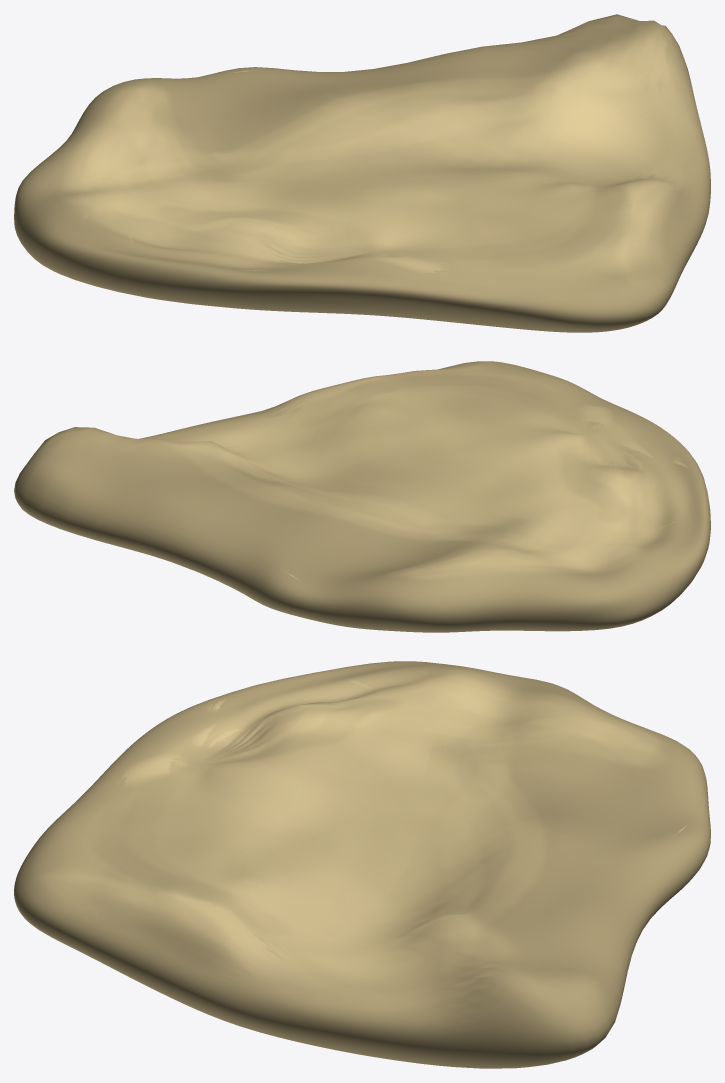
File: Beach_Sandbar.glb
3 renders of one model, top to bottom at view 1: azimuth 30°, elevation 25°; view 2: azimuth 150°, elevation 25°; view 3: azimuth 270°, elevation 25°, orthographic. The views are drawn at different scales.
Visible parts, largest first — view 1: Sphere; view 2: Sphere; view 3: Sphere.
Part boxes in pixels (bbox=[...]): Sphere: bbox=[14, 14, 710, 332]; Sphere: bbox=[14, 361, 710, 632]; Sphere: bbox=[14, 661, 710, 1068].
Bounding box in the file's own units: 138 × 25.41 × 117.
1 material, 1 textured.
